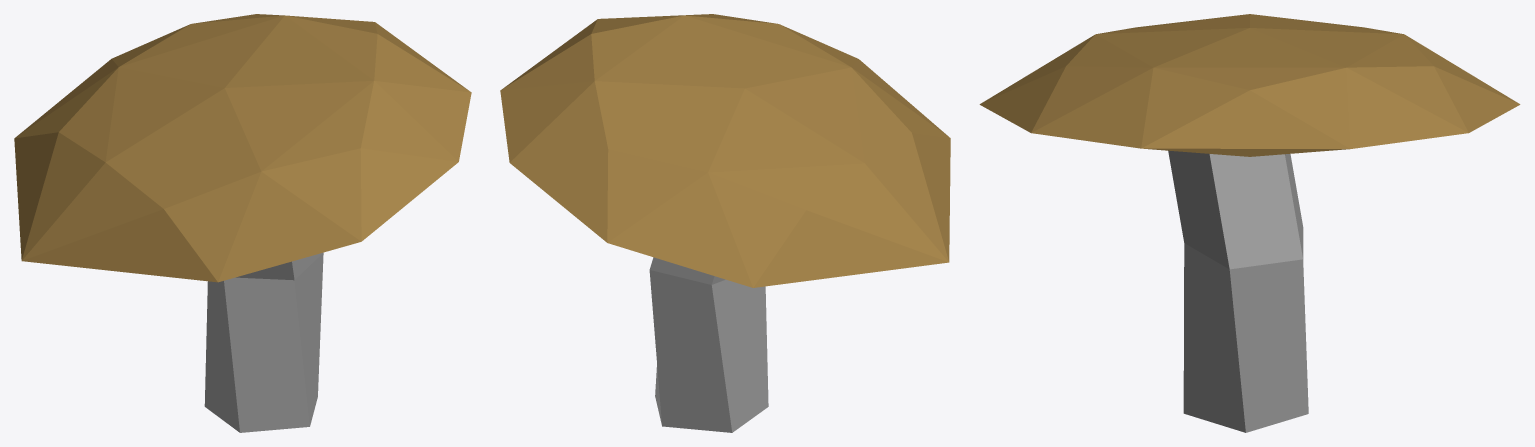
The model's file is Mushroom#1.fbx.
The picture shows the model from 3 angles, left to right: view 1: azimuth 30°, elevation 25°; view 2: azimuth 150°, elevation 25°; view 3: azimuth 270°, elevation 25°; orthographic projection. The views are drawn at different scales.
Visible parts, largest first — view 1: Mushroom#1; view 2: Mushroom#1; view 3: Mushroom#1.
Part boxes in pixels (x1,y1,x2,y2): Mushroom#1: [14, 14, 471, 432]; Mushroom#1: [500, 14, 950, 432]; Mushroom#1: [979, 14, 1520, 432].
Size of the model in its own units: 11.72 by 9.71 by 12.69.
